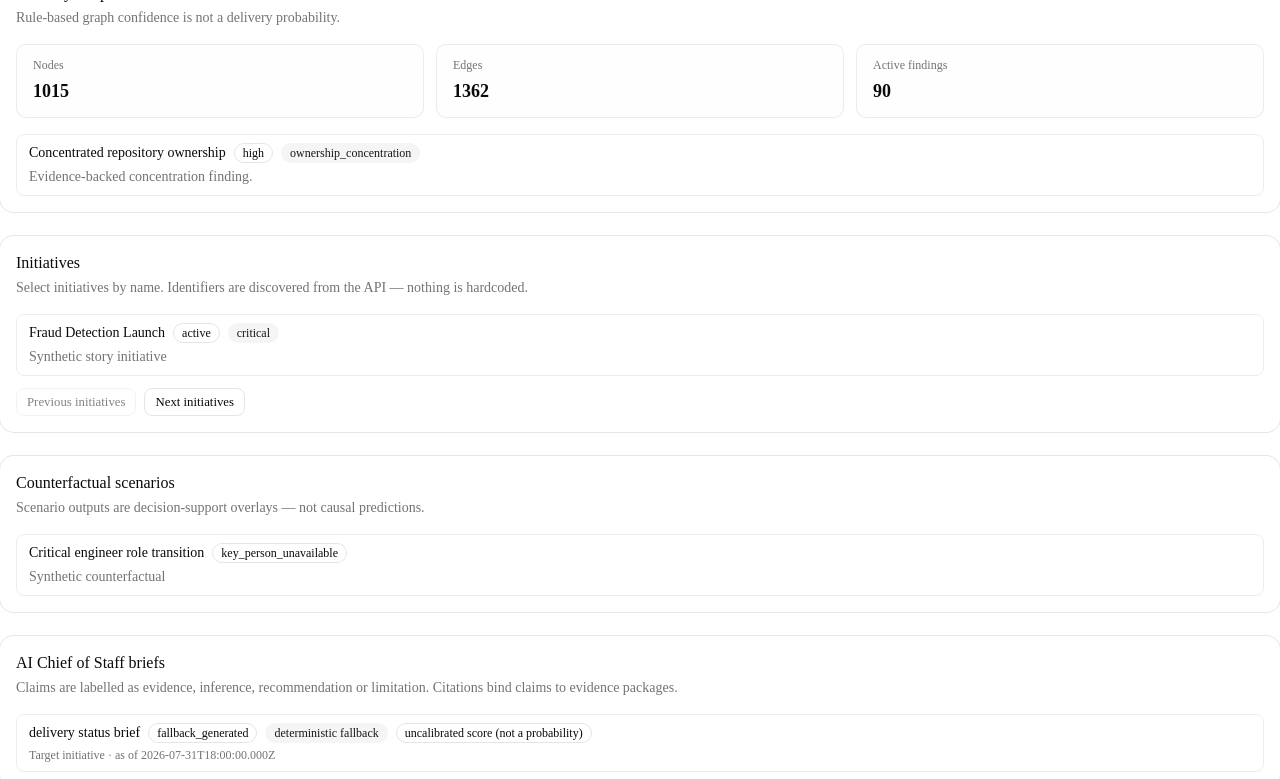
Test: ExecutiveBriefingPanel › shows scenario result errors instead of empty state
(page scrolled)
What coordinates should you click on to do the following:
click the button with test id "scenario-select"
I would click on:
 (117, 552)
Its box is x1=16 y1=534 x2=1264 y2=596.
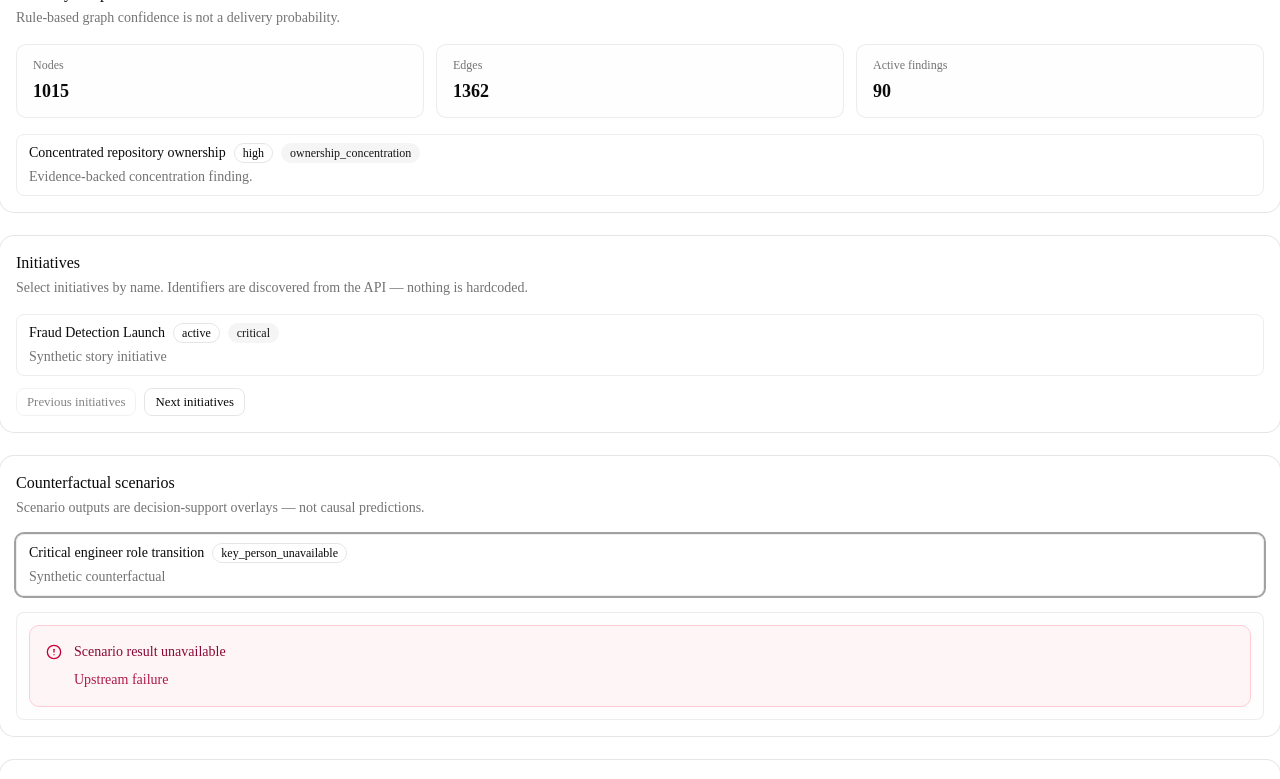
expect the text "Scenario result unavailable" is shown: met, box x1=74 y1=644 x2=226 y2=659
